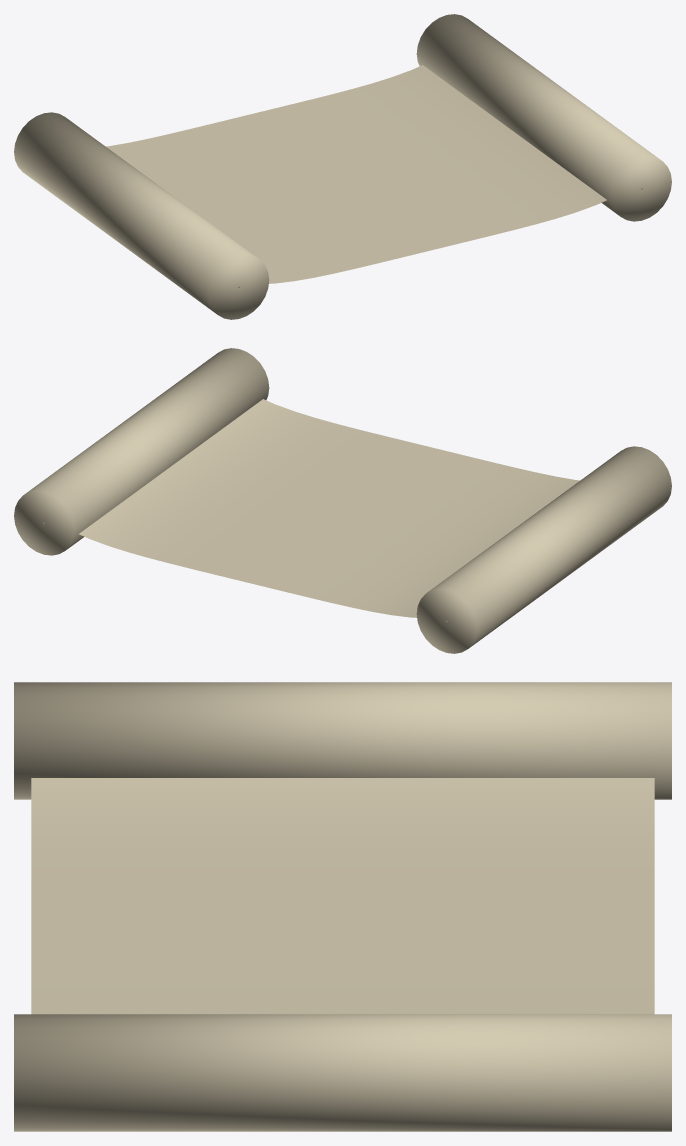
The model's file is open-scroll.glb.
3 renders of one model, top to bottom at view 1: azimuth 30°, elevation 25°; view 2: azimuth 150°, elevation 25°; view 3: azimuth 270°, elevation 25°, orthographic. The views are drawn at different scales.
Visible parts, largest first — view 1: open-scroll__Visual_matte; view 2: open-scroll__Visual_matte; view 3: open-scroll__Visual_matte.
Part boxes in pixels (x1,y1,x2,y2): open-scroll__Visual_matte: [14, 14, 671, 319]; open-scroll__Visual_matte: [14, 348, 671, 653]; open-scroll__Visual_matte: [14, 682, 671, 1131].
Bounding box in the file's own units: 0.782 × 0.102 × 0.57.
